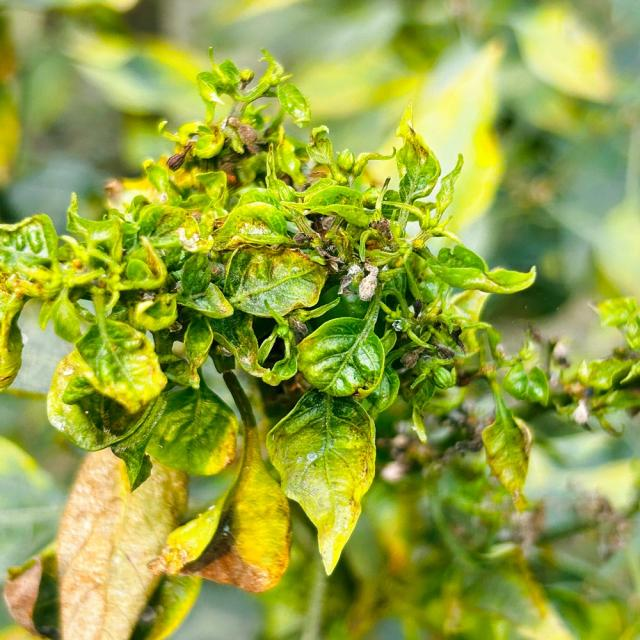Chilli_Leaf_Curl: (1, 45, 545, 630), (149, 369, 293, 594), (264, 388, 378, 576), (294, 314, 385, 400)
